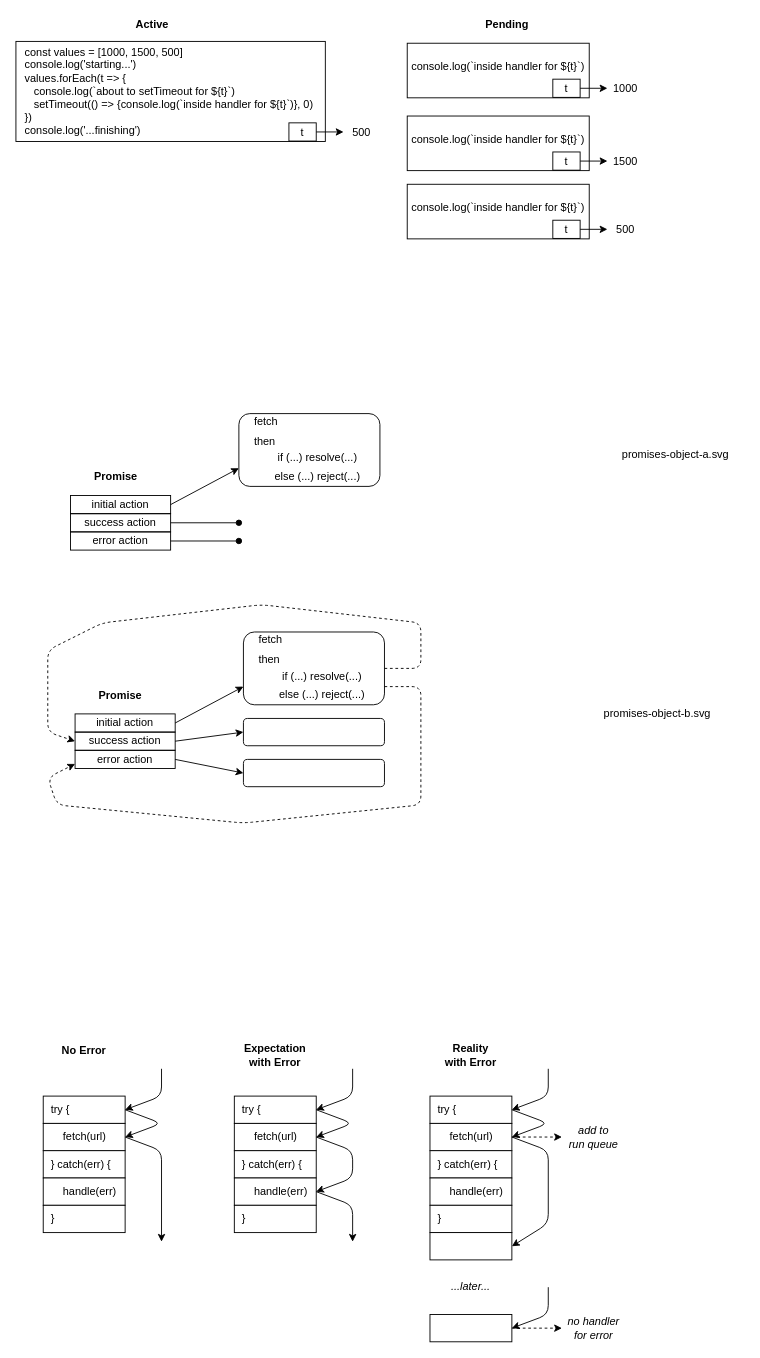
This 760x1358 diagram has some shape labels left out. Here are the shapes that lost their labels. From the top down, the centre of each, then its label:
the point at 313,732: console.log(message)
the point at 313,772: console.log(error.message)
the point at 470,1246: ...other code...
the point at 470,1328: execute fetch
